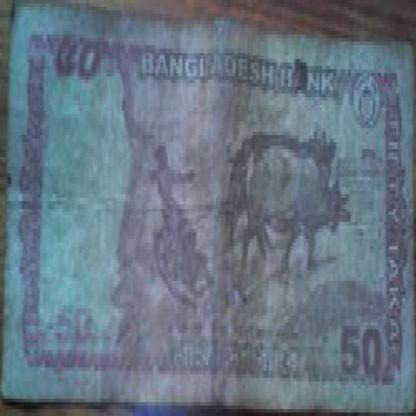Fifty taka: (331, 319, 406, 392), (52, 31, 118, 97)
